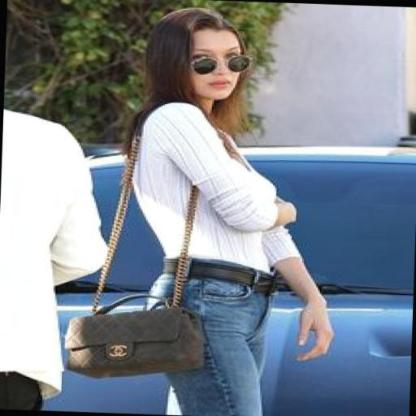bag: (57, 290, 219, 386)
person: (124, 2, 336, 416)
